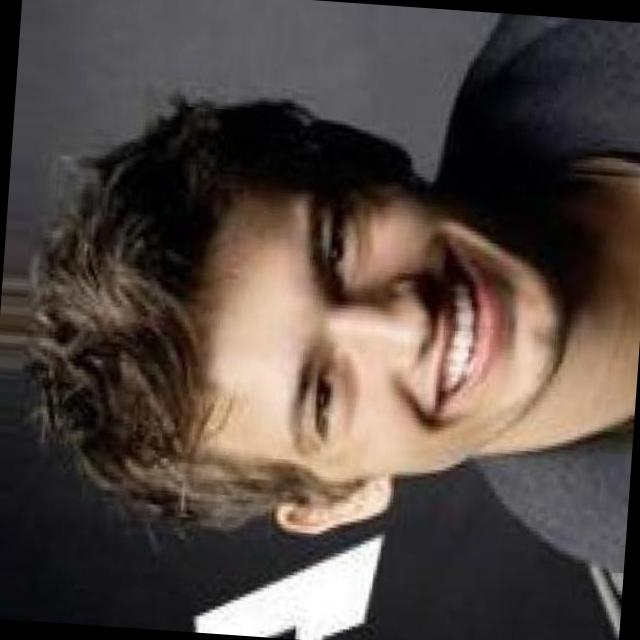bareface: (48, 126, 560, 502)
